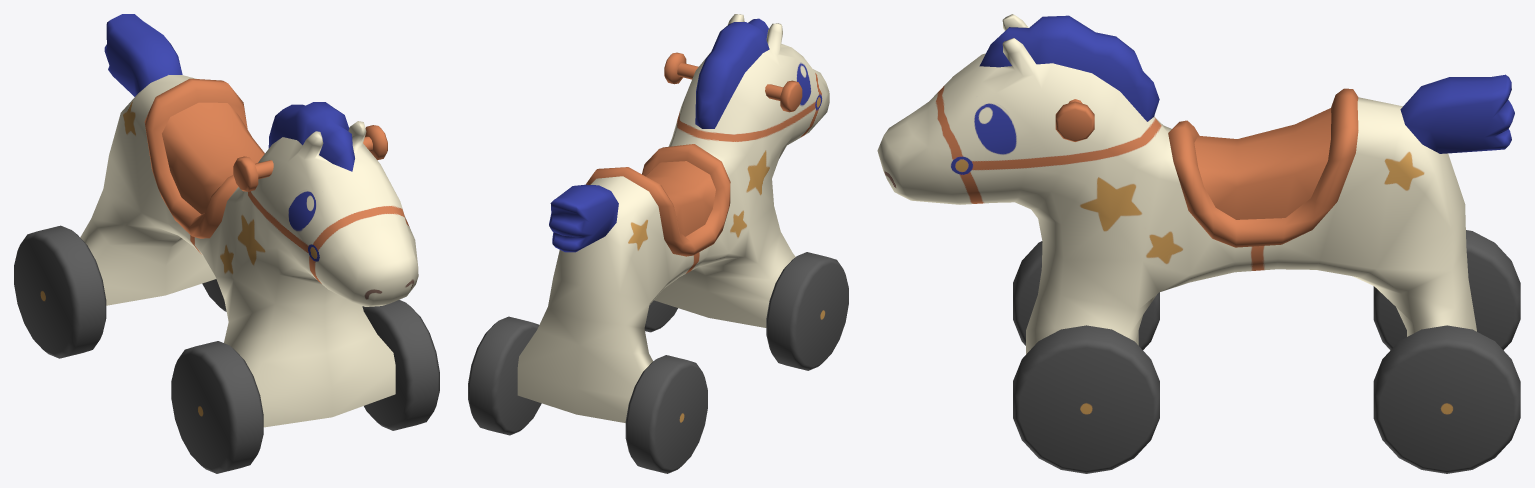
The model's file is pony.glb.
The picture shows the model from 3 angles, left to right: view 1: azimuth 30°, elevation 25°; view 2: azimuth 150°, elevation 25°; view 3: azimuth 270°, elevation 25°; orthographic projection. The views are drawn at different scales.
Parts seen in each view (by area): view 1: horse, wheels; view 2: horse, wheels; view 3: horse, wheels.
Part boxes in pixels (x1=…): horse: x1=80, y1=14, x2=418, y2=427; wheels: x1=14, y1=225, x2=439, y2=473; horse: x1=517, y1=14, x2=829, y2=422; wheels: x1=468, y1=252, x2=848, y2=473; horse: x1=877, y1=14, x2=1514, y2=354; wheels: x1=1013, y1=230, x2=1520, y2=473.
Size of the model in its own units: 0.8429 by 1.34 by 1.95.
2 materials, 2 textured.
